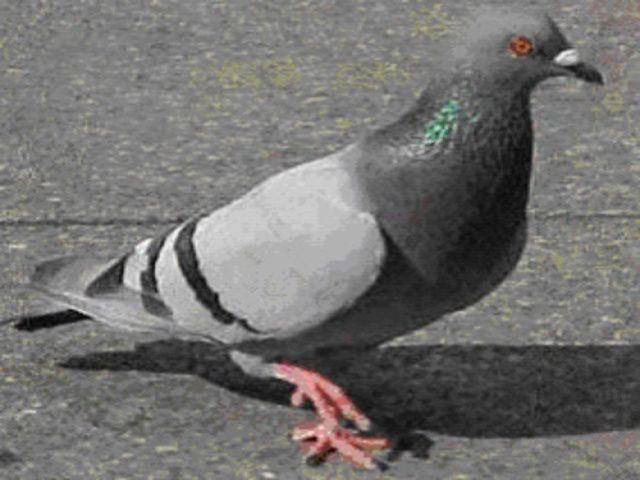Pigeon: (12, 7, 605, 466)
